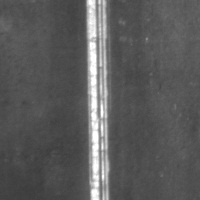scratches: (83, 1, 115, 200)
